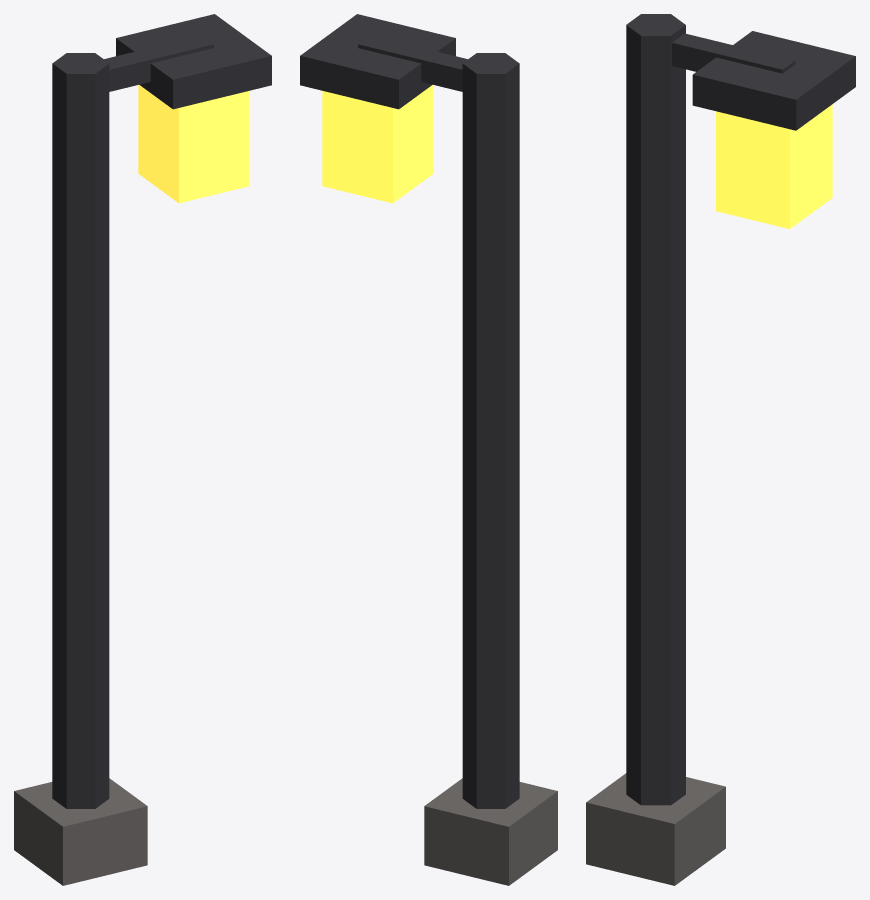
Rendered from lamp_post.glb.
3 views of the same model, side by side, from view 1: azimuth 30°, elevation 25°; view 2: azimuth 150°, elevation 25°; view 3: azimuth 330°, elevation 25° (orthographic). The views are drawn at different scales.
Parts seen in each view (by area): view 1: iron, lamp, lampbase; view 2: iron, lamp, lampbase; view 3: iron, lamp, lampbase.
Part boxes in pixels (box(x1,y1,x2,y2)): iron: box(52, 14, 271, 808); lamp: box(138, 85, 249, 203); lampbase: box(14, 778, 147, 885); iron: box(300, 14, 519, 808); lamp: box(322, 85, 433, 203); lampbase: box(424, 778, 557, 885); iron: box(626, 14, 855, 805); lamp: box(716, 104, 832, 228); lampbase: box(586, 773, 725, 885).
Size of the model in its own units: 0.29 by 1.07 by 0.14.
